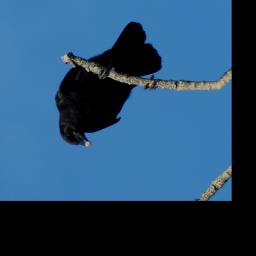Crow: (32, 15, 182, 157)
